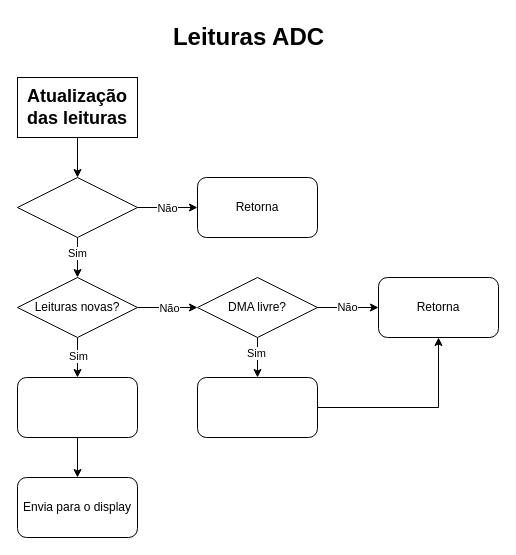
Some shapes in this 516 by 555 pixel diagram are drawn without their labels. The centre of each missing label's shape, as x and y in pixels:
Converte as leituras: the point at 77,407
Passou 1 ms?: the point at 77,207
Pede novas leituras do tipo diferente do anterior: the point at 257,407
